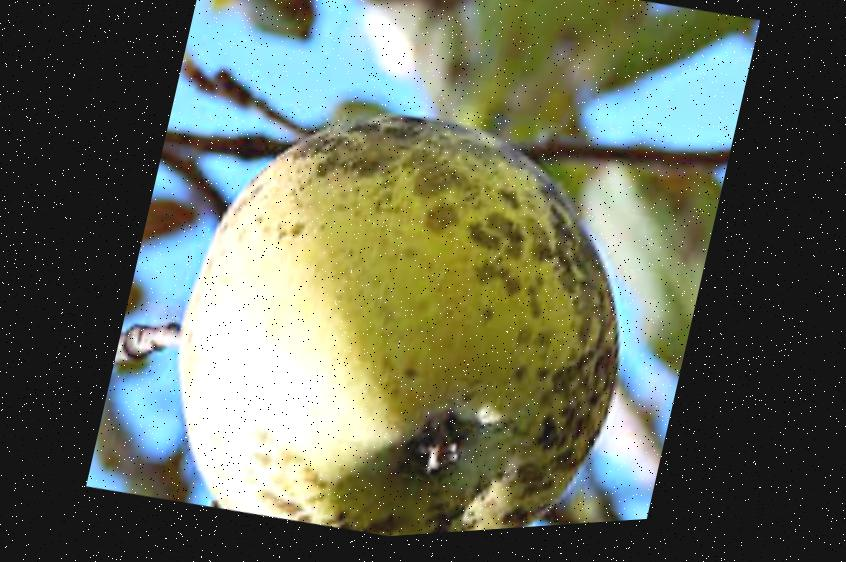BLOTCH: (109, 14, 706, 555)
